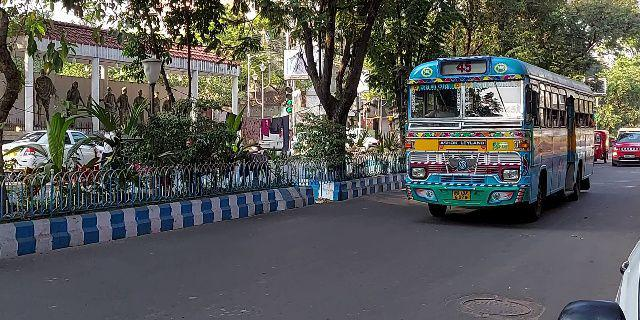Bus: (402, 54, 596, 222)
Car: (608, 129, 640, 172)
